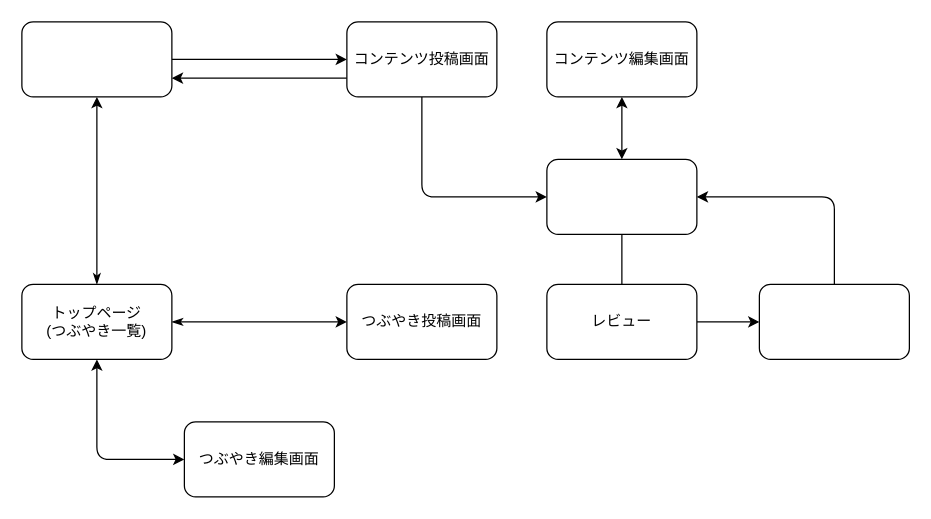
Image size: 931x519. Some labels were removed from this diagram. Each missing label, with the centre of its shape:
"コンテンツ一覧画面" belongs at [96,59].
"コンテンツ詳細画面" belongs at [621,196].
"レビュー編集画面" belongs at [833,321].
